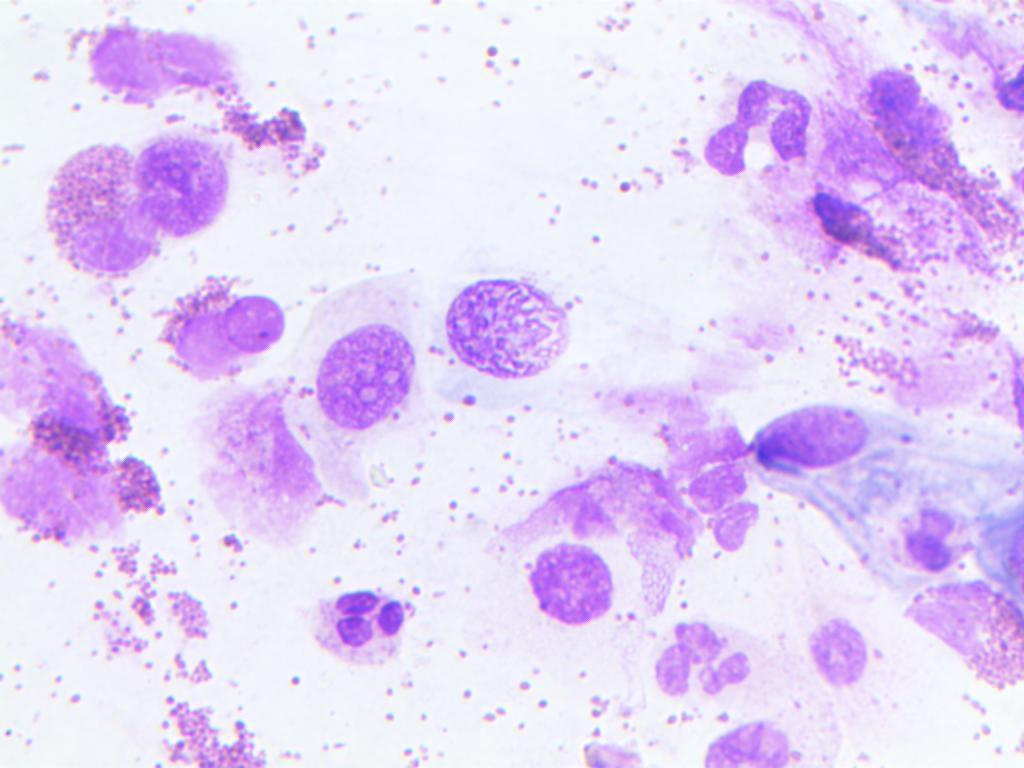artifact: (0, 334, 159, 554), (846, 64, 997, 204), (192, 68, 335, 179), (738, 190, 903, 284), (83, 28, 246, 112), (689, 460, 763, 568)
eosinophil: (29, 137, 169, 280), (899, 574, 1024, 700), (144, 274, 285, 380)
epithelial: (295, 251, 421, 460), (434, 249, 596, 392), (130, 113, 237, 244), (782, 579, 870, 713), (523, 534, 626, 631), (700, 724, 801, 768)
goblet_cell: (748, 397, 1023, 509), (740, 390, 894, 550)
neutrophil: (304, 569, 420, 676), (706, 78, 819, 182), (656, 616, 767, 712), (896, 497, 998, 578)
